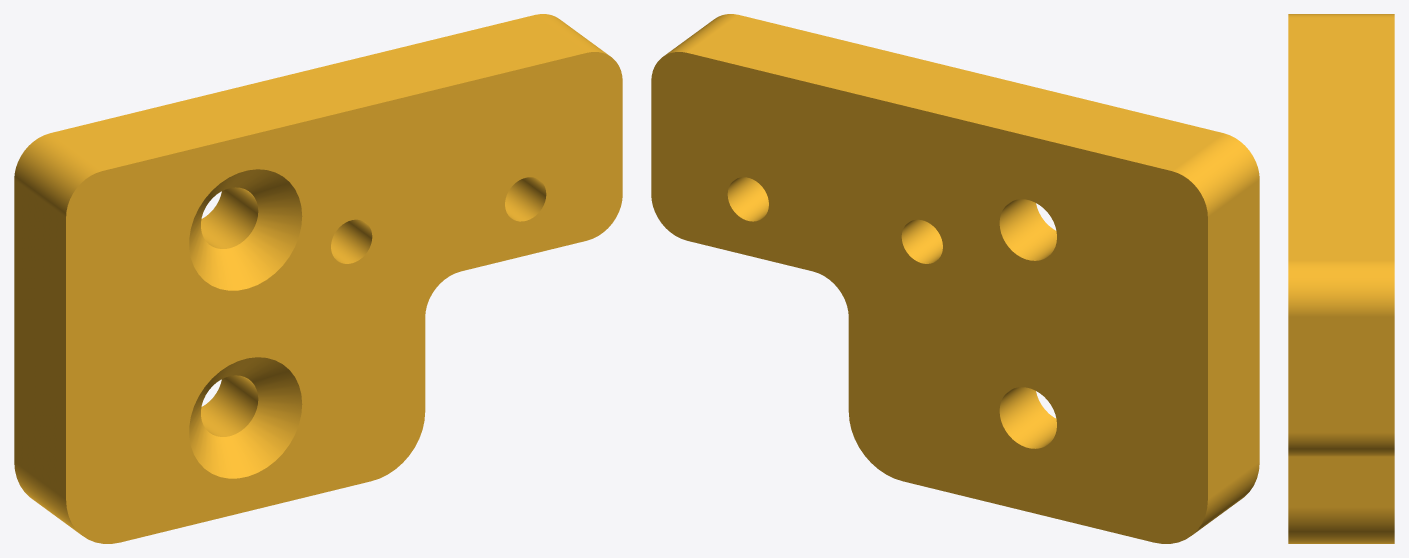
Rendered from support_plate.gltf.
3 views of the same model, side by side, from view 1: azimuth 30°, elevation 25°; view 2: azimuth 150°, elevation 25°; view 3: azimuth 270°, elevation 25° (orthographic). The views are drawn at different scales.
Parts seen in each view (by area): view 1: Z-Limit switch Support plate; view 2: Z-Limit switch Support plate; view 3: Z-Limit switch Support plate.
Part boxes in pixels (<box>): Z-Limit switch Support plate: <box>14,14,622,543</box>; Z-Limit switch Support plate: <box>651,14,1259,543</box>; Z-Limit switch Support plate: <box>1288,14,1394,543</box>.
Size of the model in its own units: 0.031 by 0.02 by 0.005.
